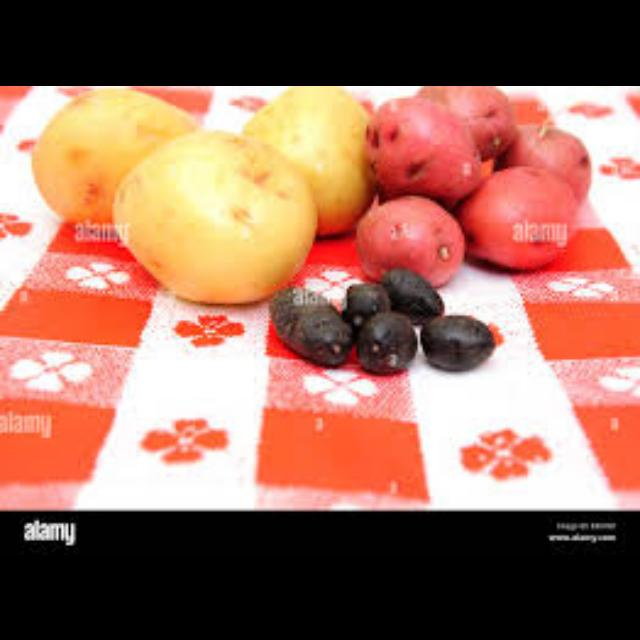Defected potato: (452, 165, 588, 275), (368, 90, 487, 204), (352, 194, 466, 294)
Potato: (108, 124, 324, 310), (31, 86, 211, 237), (235, 86, 383, 247)
